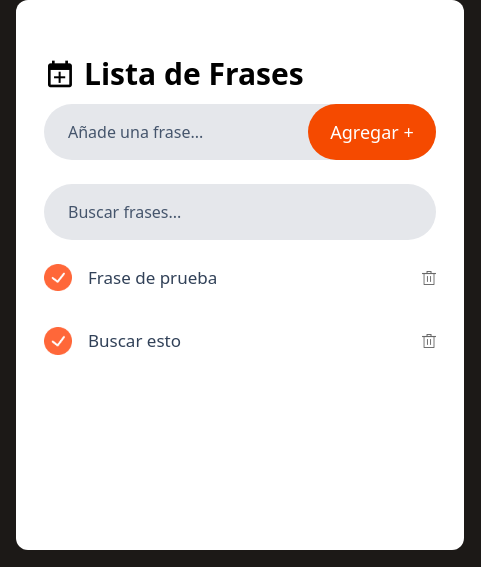
Test: AppList › elimina una frase
Type "Para eliminar" into the field with placeholder "Añade una frase...".
click(176, 132); type("Para eliminar")  # box [44,104,308,160]
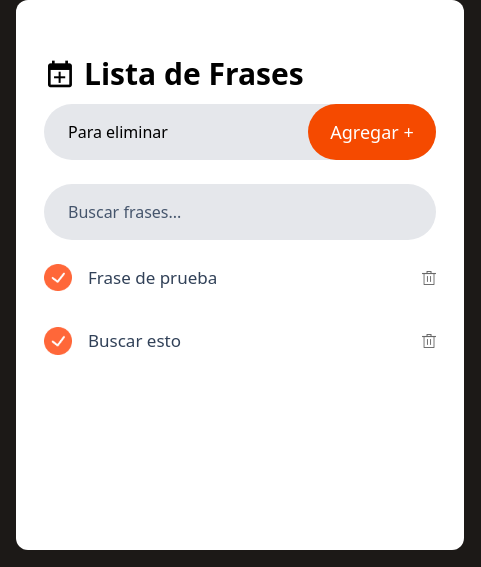
Click the button "Agregar +".
click(372, 132)  # box [308,104,436,160]
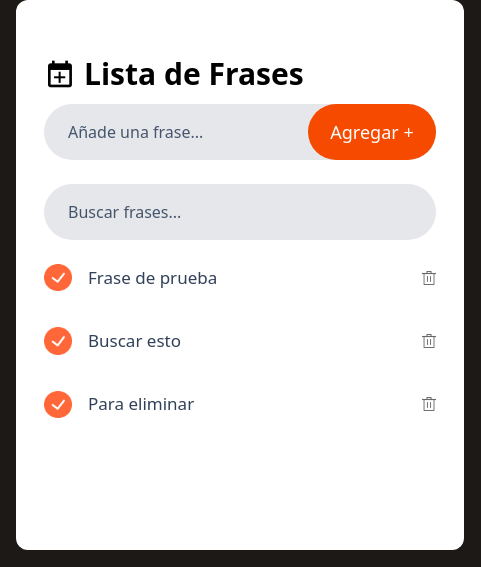
Result: the text "Para eliminar" is shown at [88,392,194,417]
Result: the picture named "Eliminar" in the row of "Para eliminar" is shown
Click the picture named "Eliminar" in the row of "Para eliminar".
click(429, 404)  # box [422,397,436,411]
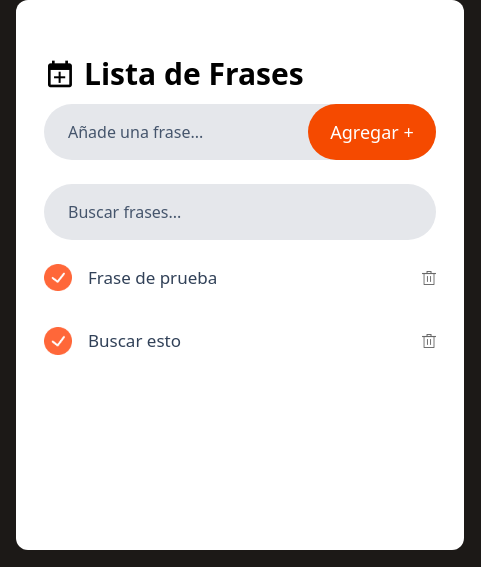
Result: the text "Para eliminar" is gone
